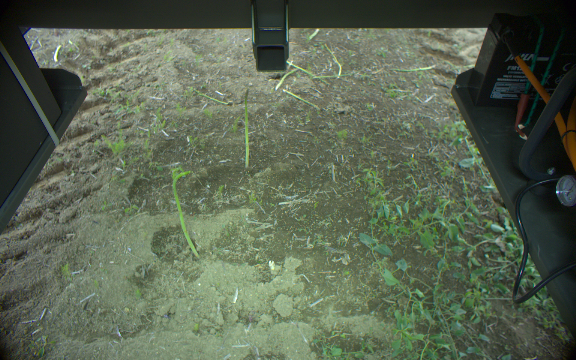aspa: (170, 168, 200, 260), (241, 87, 255, 170)
